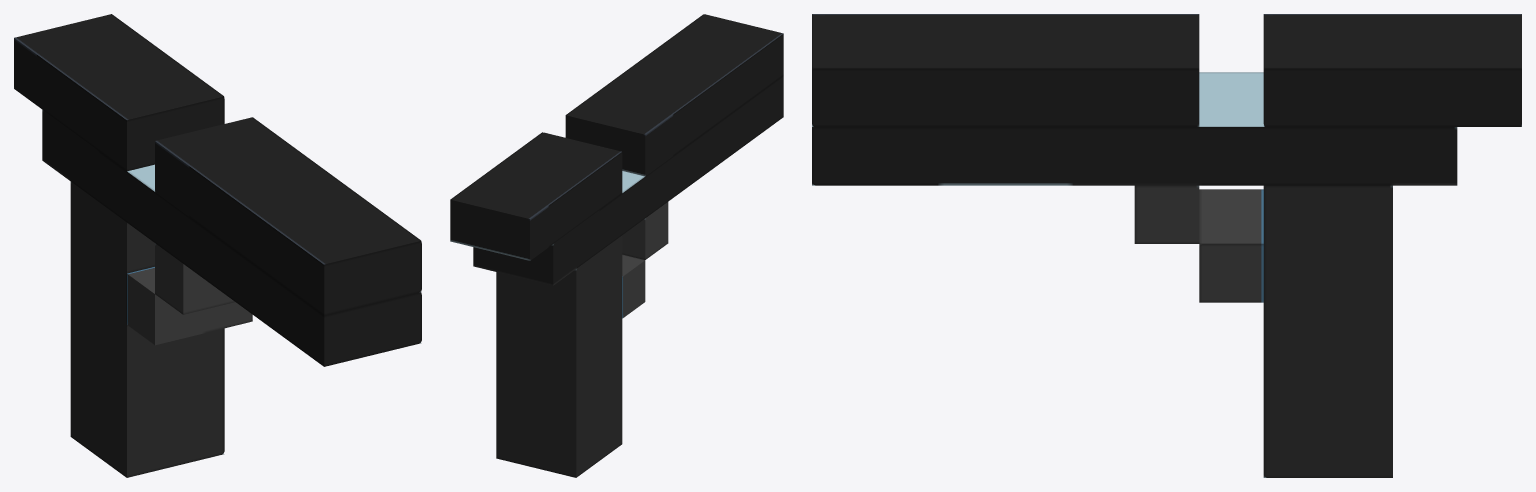
File: pistol2.obj
3 views of the same model, side by side, from view 1: azimuth 30°, elevation 25°; view 2: azimuth 150°, elevation 25°; view 3: azimuth 270°, elevation 25° (orthographic). The views are drawn at different scales.
Parts seen in each view (by area): view 1: cube; view 2: cube; view 3: cube.
Part boxes in pixels (x1,y1,x2,y2): cube: [14, 14, 421, 477]; cube: [450, 14, 783, 477]; cube: [812, 14, 1521, 477].
Size of the model in its own units: 2 by 7 by 11.
1 material, 1 textured.
